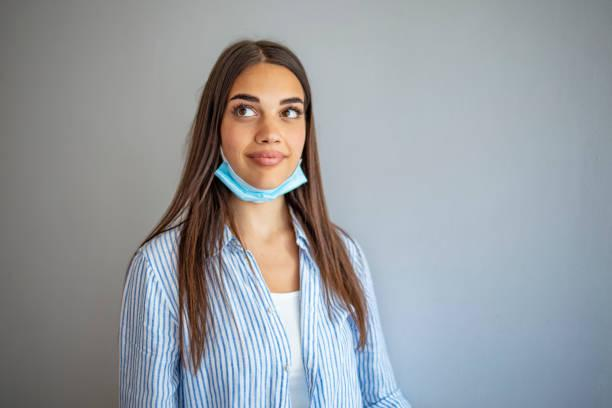mask_weared_incorrect: (216, 60, 320, 219)
